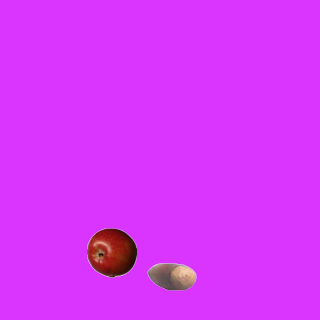Apple Braeburn: (86, 227, 136, 277)
Hazelnut: (146, 251, 196, 301)
